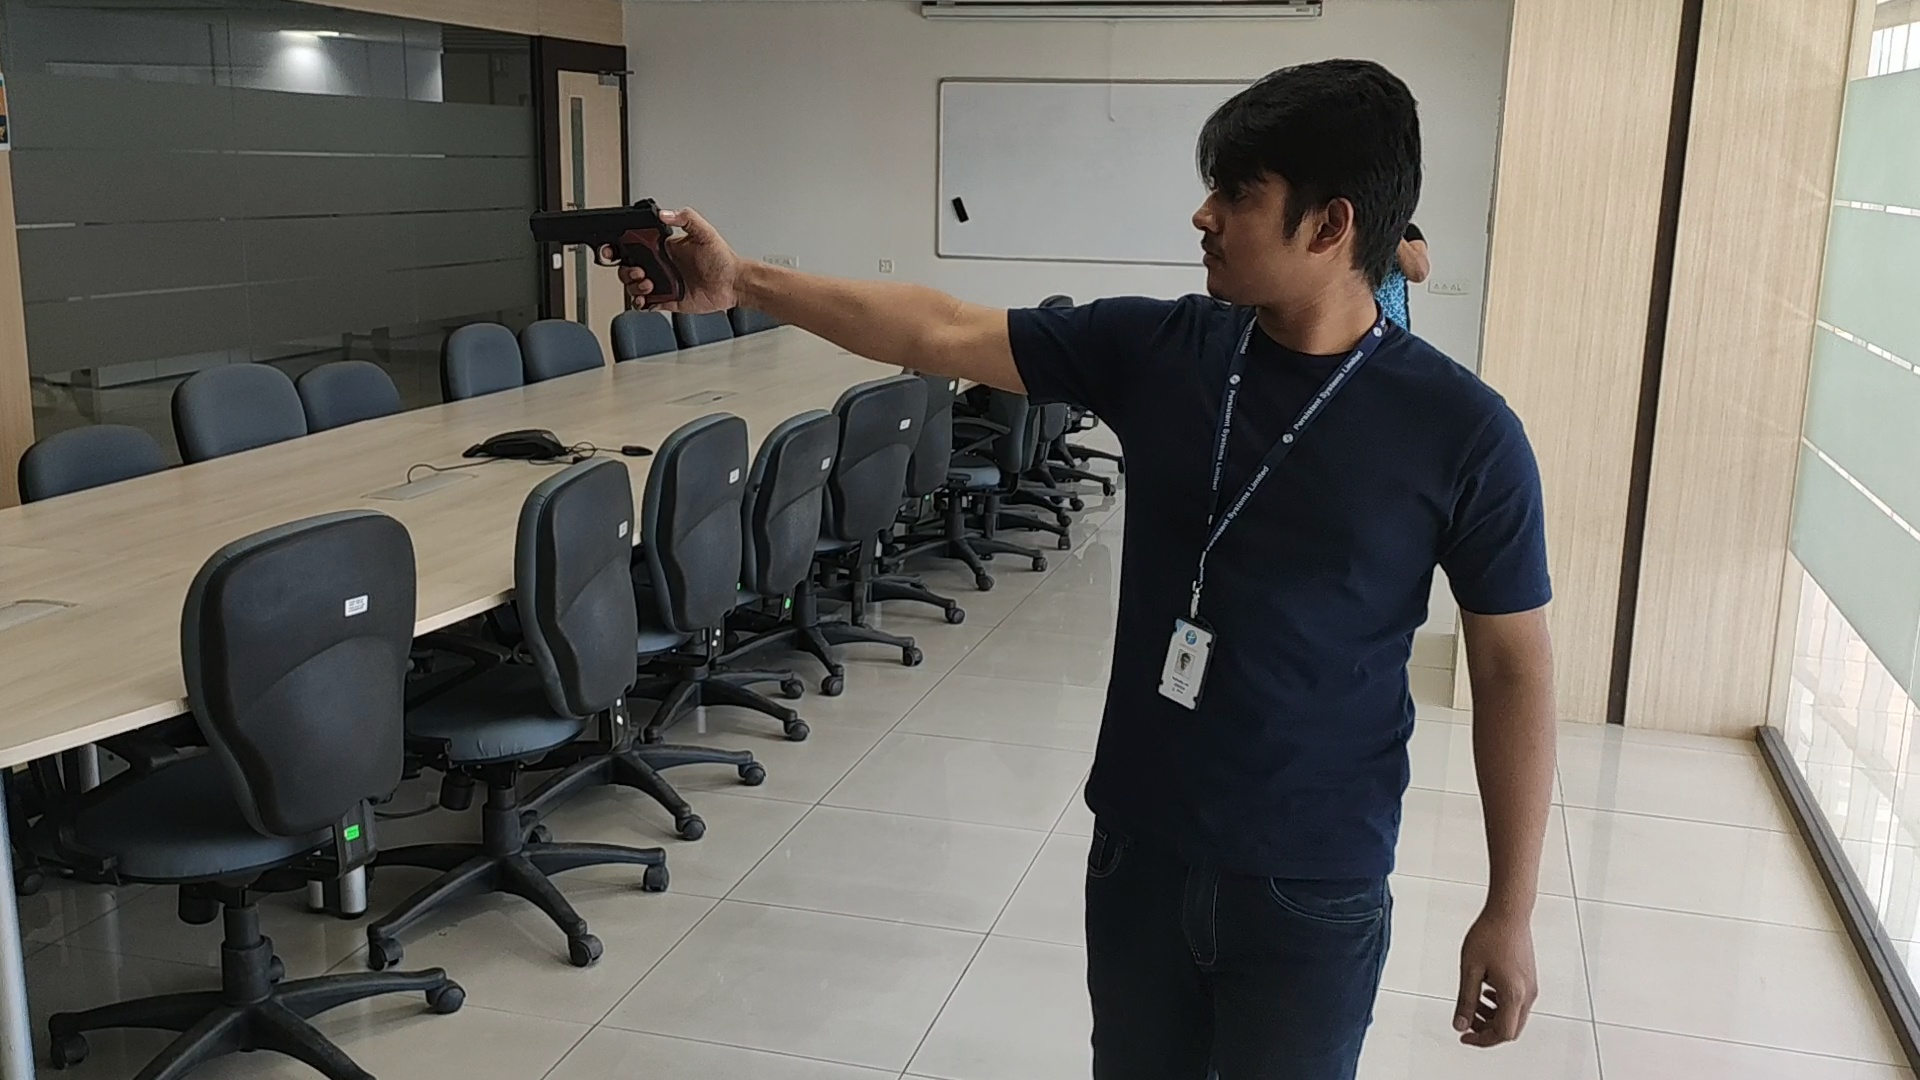gun: (524, 198, 683, 301)
